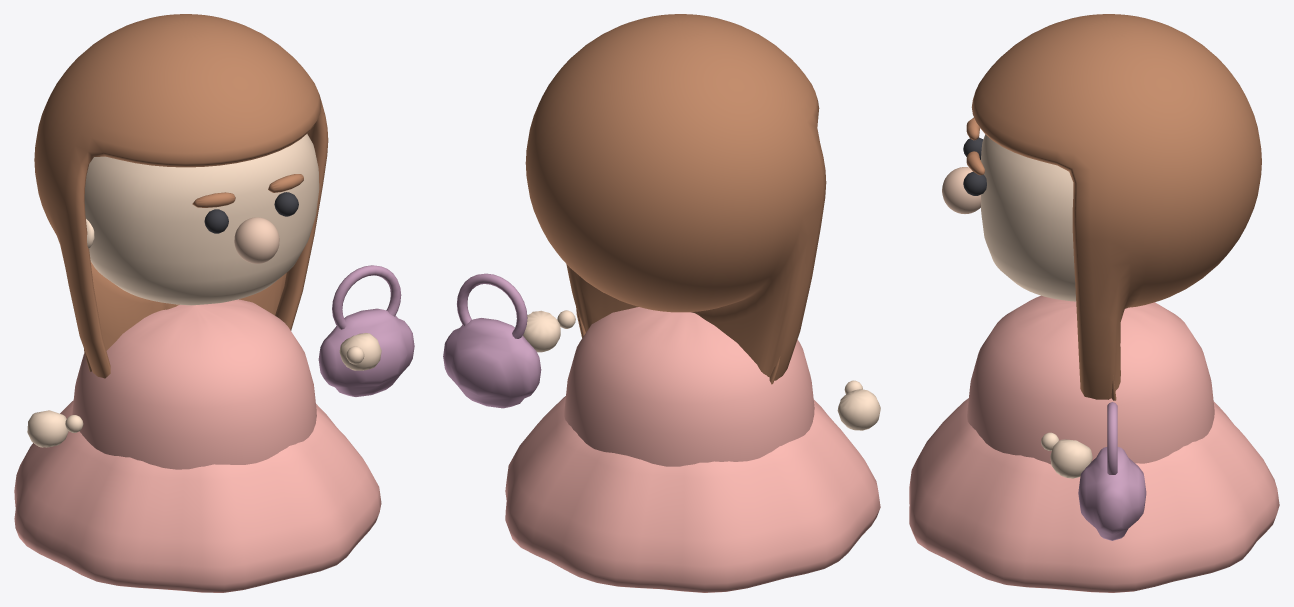
File: Pedestrian_Woman.fbx
The picture shows the model from 3 angles, left to right: view 1: azimuth 30°, elevation 25°; view 2: azimuth 150°, elevation 25°; view 3: azimuth 270°, elevation 25°; orthographic projection. The views are drawn at different scales.
Visible parts, largest first — view 1: PedHair, PedSkirt, PedBody, PedHead, PedBag, PedNose, PedBagStrap, PedHandL, PedHandR; view 2: PedHair, PedSkirt, PedBody, PedBag, PedBagStrap, PedHandL, PedHandR; view 3: PedHair, PedSkirt, PedBody, PedHead, PedBag, PedHandR, PedNose, PedBagStrap.
Part boxes in pixels (box(x1,y1,x2,y2)): PedHair: box(34, 14, 328, 378); PedSkirt: box(14, 400, 381, 592); PedBody: box(72, 299, 316, 469); PedHead: box(84, 134, 319, 305); PedBag: box(318, 308, 414, 396); PedNose: box(234, 217, 279, 263); PedBagStrap: box(332, 265, 401, 329); PedHandL: box(27, 410, 68, 447); PedHandR: box(339, 333, 381, 370); PedHair: box(525, 14, 826, 384); PedSkirt: box(505, 396, 880, 592); PedBody: box(564, 307, 814, 466); PedBag: box(443, 318, 541, 408); PedBagStrap: box(457, 273, 527, 338); PedHandL: box(837, 389, 880, 430); PedHandR: box(523, 310, 560, 352); PedHair: box(971, 14, 1261, 400); PedSkirt: box(909, 398, 1279, 592); PedBody: box(967, 295, 1214, 464); PedHead: box(980, 134, 1076, 301); PedBag: box(1078, 447, 1146, 540); PedHandR: box(1050, 439, 1092, 478); PedNose: box(942, 167, 981, 213); PedBagStrap: box(1107, 402, 1117, 474).
Bounding box in the file's own units: 132 × 152 × 104.
